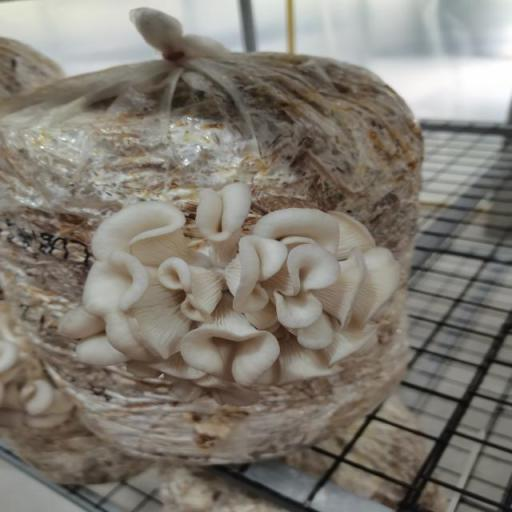White Oyster Mushroom: (52, 175, 417, 397)
